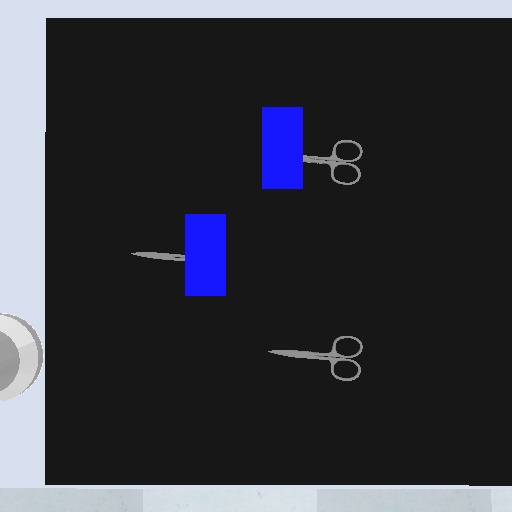tijera: (266, 333, 367, 384), (303, 136, 366, 187), (129, 245, 185, 265)
